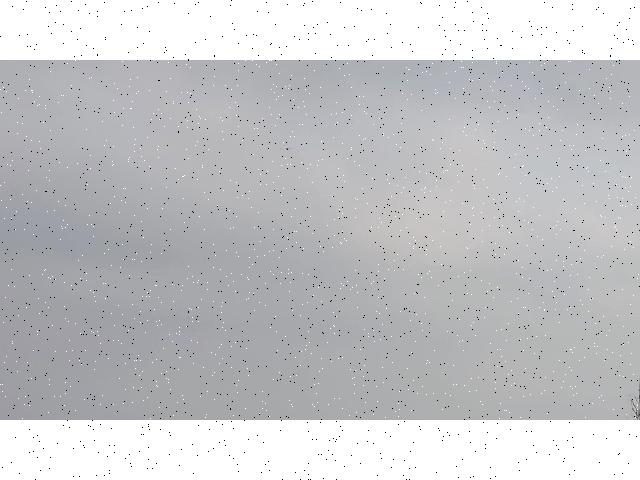Anti-Drone: (278, 146, 296, 151)
